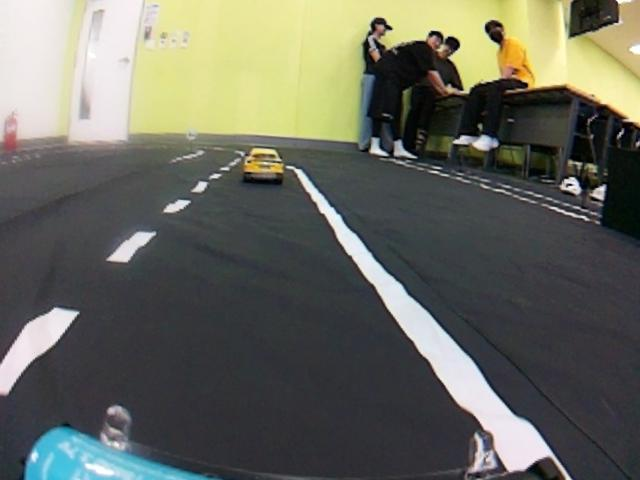car: (239, 141, 290, 188)
straight: (3, 196, 640, 479)
